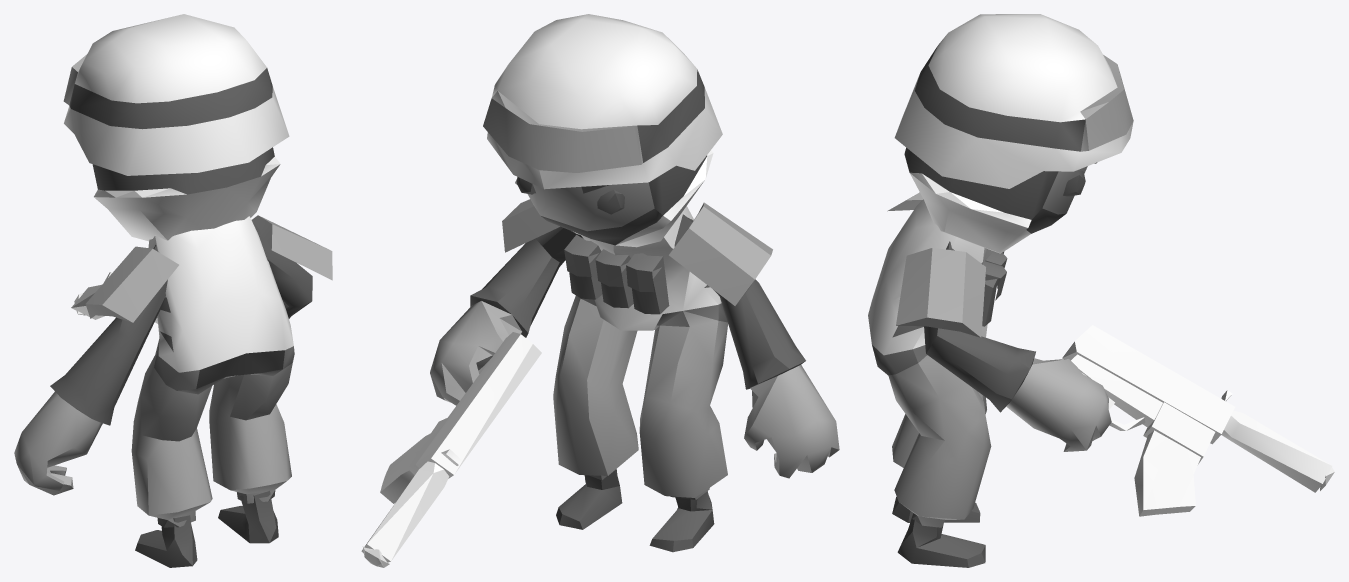
The model's file is charcoal_bike.glb.
3 renders of one model, left to right at view 1: azimuth 30°, elevation 25°; view 2: azimuth 150°, elevation 25°; view 3: azimuth 270°, elevation 25°, orthographic. The views are drawn at different scales.
Parts seen in each view (by area): view 1: Body; view 2: Body; view 3: Body.
Part boxes in pixels (x1=…): Body: x1=14, y1=14, x2=332, y2=567; Body: x1=361, y1=14, x2=839, y2=567; Body: x1=868, y1=14, x2=1334, y2=567.
Bounding box in the file's own units: 1.24 × 1.8 × 1.49.
Materials: 2 (1 with a texture image).
